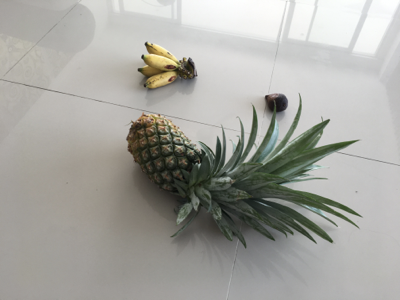banana: (137, 40, 199, 93)
pineapple: (125, 98, 362, 247)
snake fruit: (265, 93, 289, 111)
